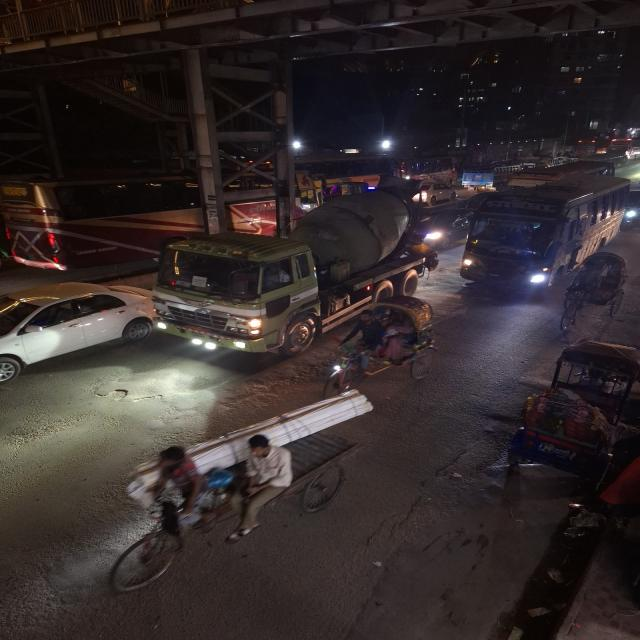bus: (459, 175, 626, 298)
car: (0, 282, 153, 389)
rickshaw: (109, 407, 367, 578), (507, 338, 639, 483), (323, 294, 440, 392), (558, 250, 628, 330)
truck: (151, 210, 443, 356), (458, 164, 499, 190), (623, 185, 640, 232)
